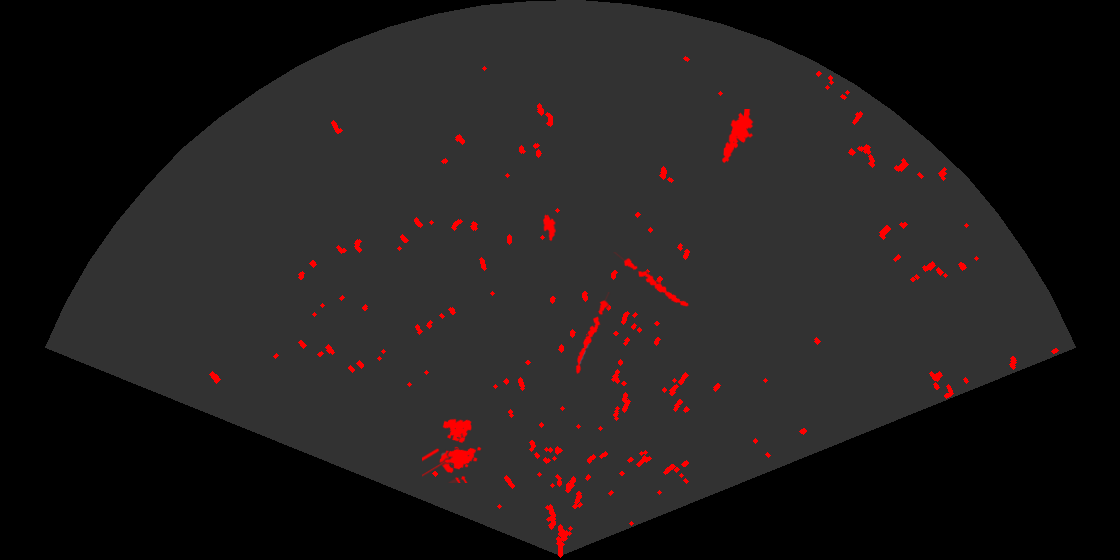AUV: (541, 213, 556, 243)
ball: (438, 445, 468, 475)
cage: (422, 417, 483, 483)
chain: (613, 252, 690, 308), (574, 292, 611, 376)
frogman: (721, 109, 755, 165)
